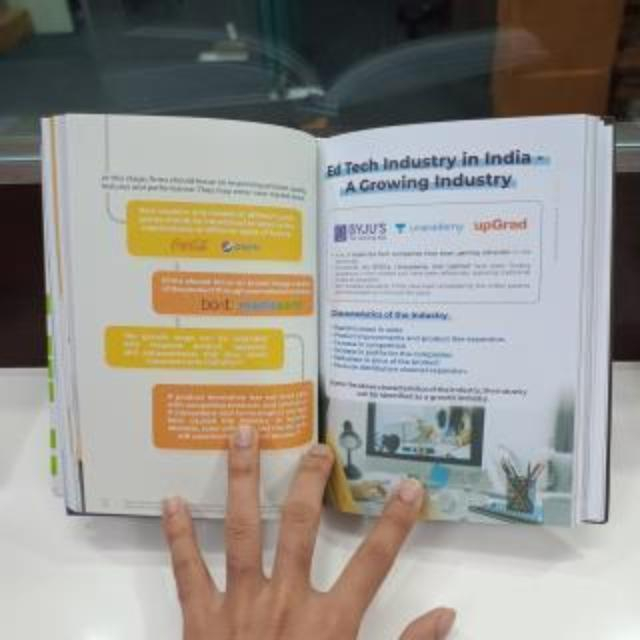book: (28, 84, 618, 550)
